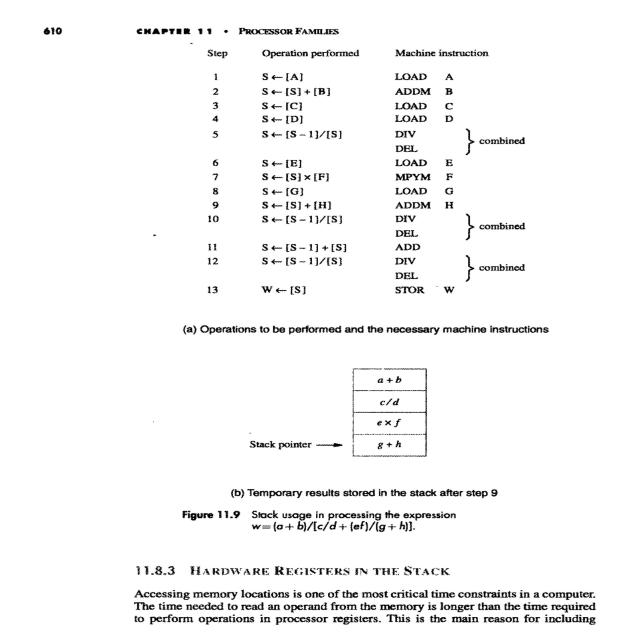diagram: (136, 46, 602, 542)
